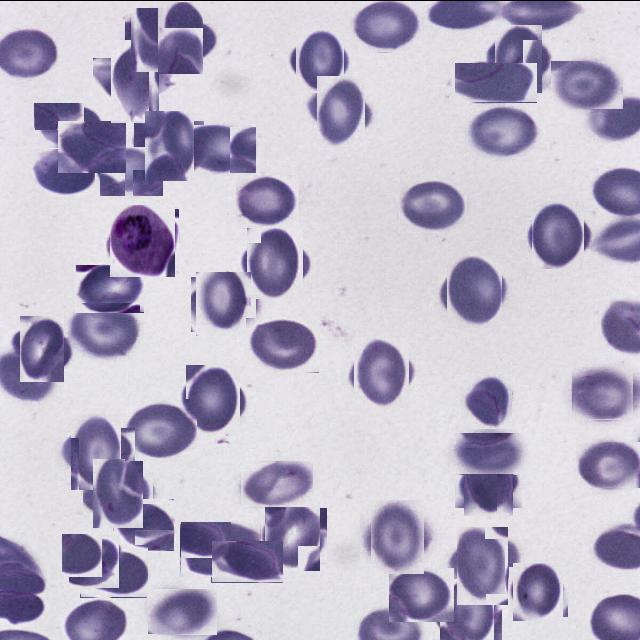difficult: (108, 206, 177, 275)
red blood cell: (180, 521, 261, 577), (125, 398, 197, 460), (102, 48, 168, 114), (64, 419, 128, 484), (442, 260, 507, 324), (450, 532, 514, 597), (66, 302, 140, 358), (243, 230, 307, 294), (366, 504, 430, 568), (245, 317, 319, 372), (350, 341, 413, 404), (182, 368, 245, 431), (465, 105, 541, 157), (261, 504, 324, 566), (177, 124, 256, 173), (349, 0, 422, 52), (528, 203, 588, 264), (399, 179, 467, 232), (80, 544, 148, 597), (310, 80, 370, 140), (194, 274, 254, 334), (88, 463, 148, 523), (139, 115, 199, 175), (550, 60, 623, 109), (58, 120, 126, 172), (389, 567, 454, 621), (128, 10, 187, 69), (436, 583, 497, 640), (235, 174, 299, 228), (151, 8, 210, 66), (95, 146, 163, 196), (489, 29, 547, 87), (460, 454, 518, 512), (30, 147, 100, 195), (34, 102, 107, 148), (454, 62, 537, 102), (75, 264, 144, 312), (241, 460, 313, 506), (572, 366, 634, 419), (291, 31, 348, 88), (147, 588, 217, 634), (62, 533, 120, 588), (113, 498, 174, 550), (14, 320, 70, 376), (450, 432, 524, 474), (0, 24, 59, 76), (211, 540, 283, 582), (576, 441, 640, 487), (512, 564, 566, 618), (461, 374, 514, 428)
